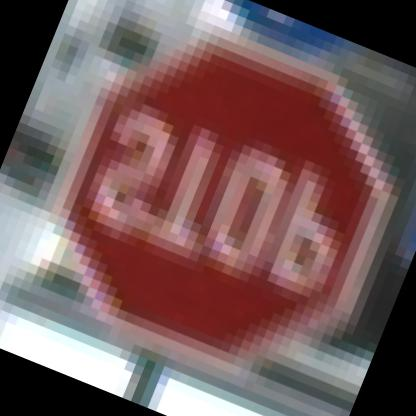stop: (9, 0, 415, 412)
